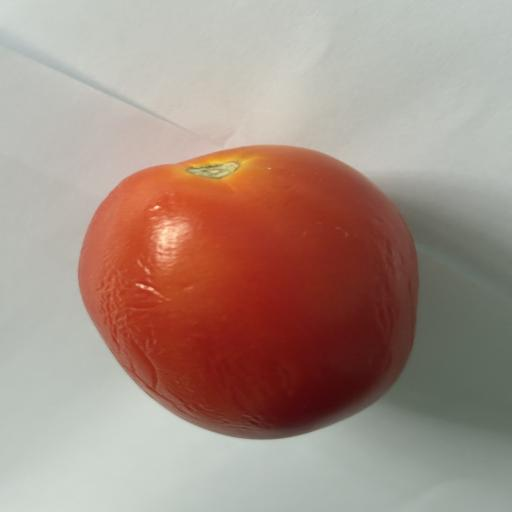spoiled: (79, 146, 418, 439)
